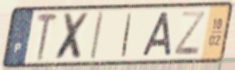A: (140, 11, 173, 58)
I: (88, 10, 105, 62), (119, 11, 134, 58)
T: (35, 12, 60, 63)
X: (53, 11, 92, 62)
Z: (172, 10, 208, 57)
